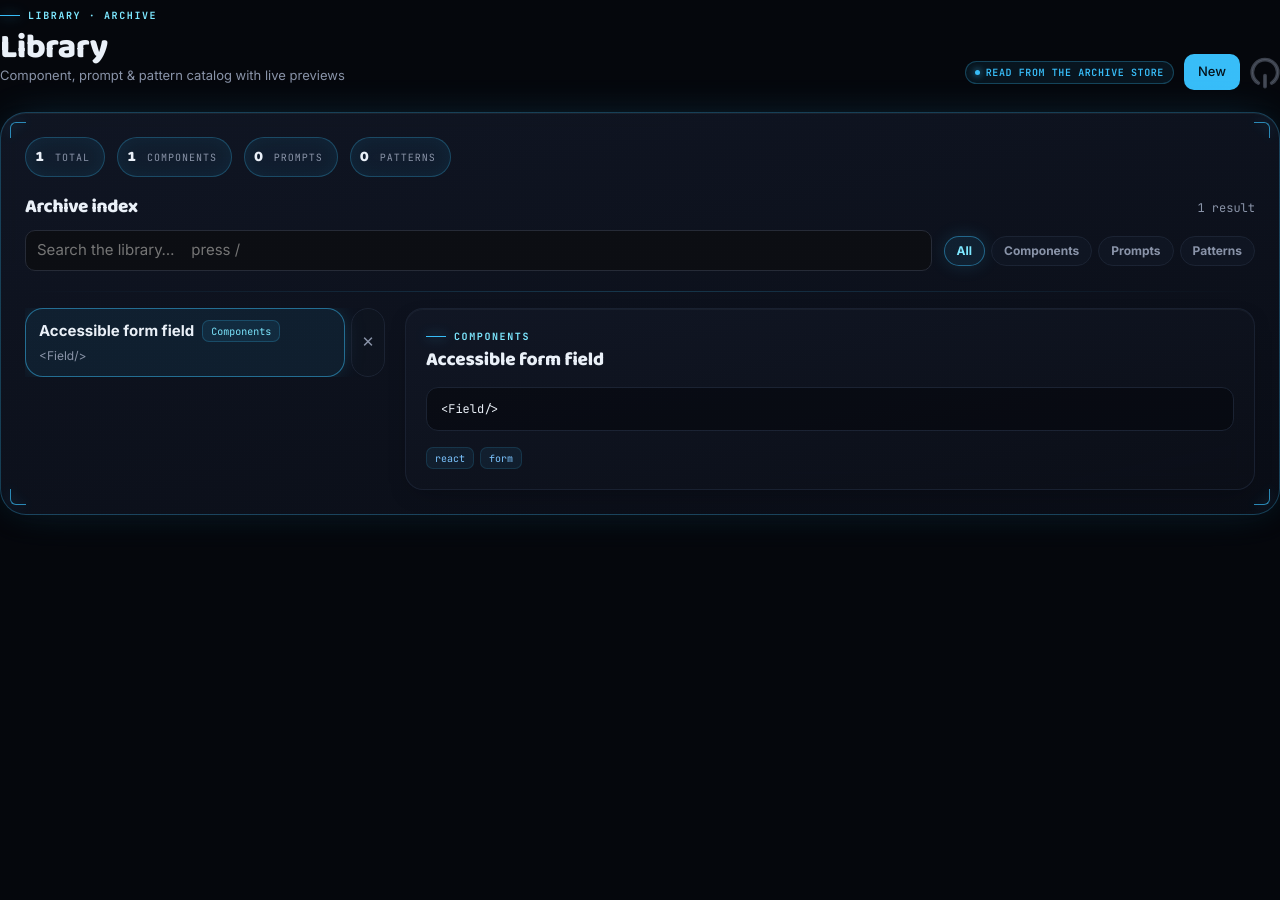
Test: Library — a policy refusal is named as permanent; an unknown failure is not › with no desktop backend at all, no backend is said to have rejected anything
The image size is (1280, 900).
Expected: the text "Accessible form field" is shown, [39,320,194,342]
Click the button "✕".
click(368, 343)  # box [351,308,385,377]
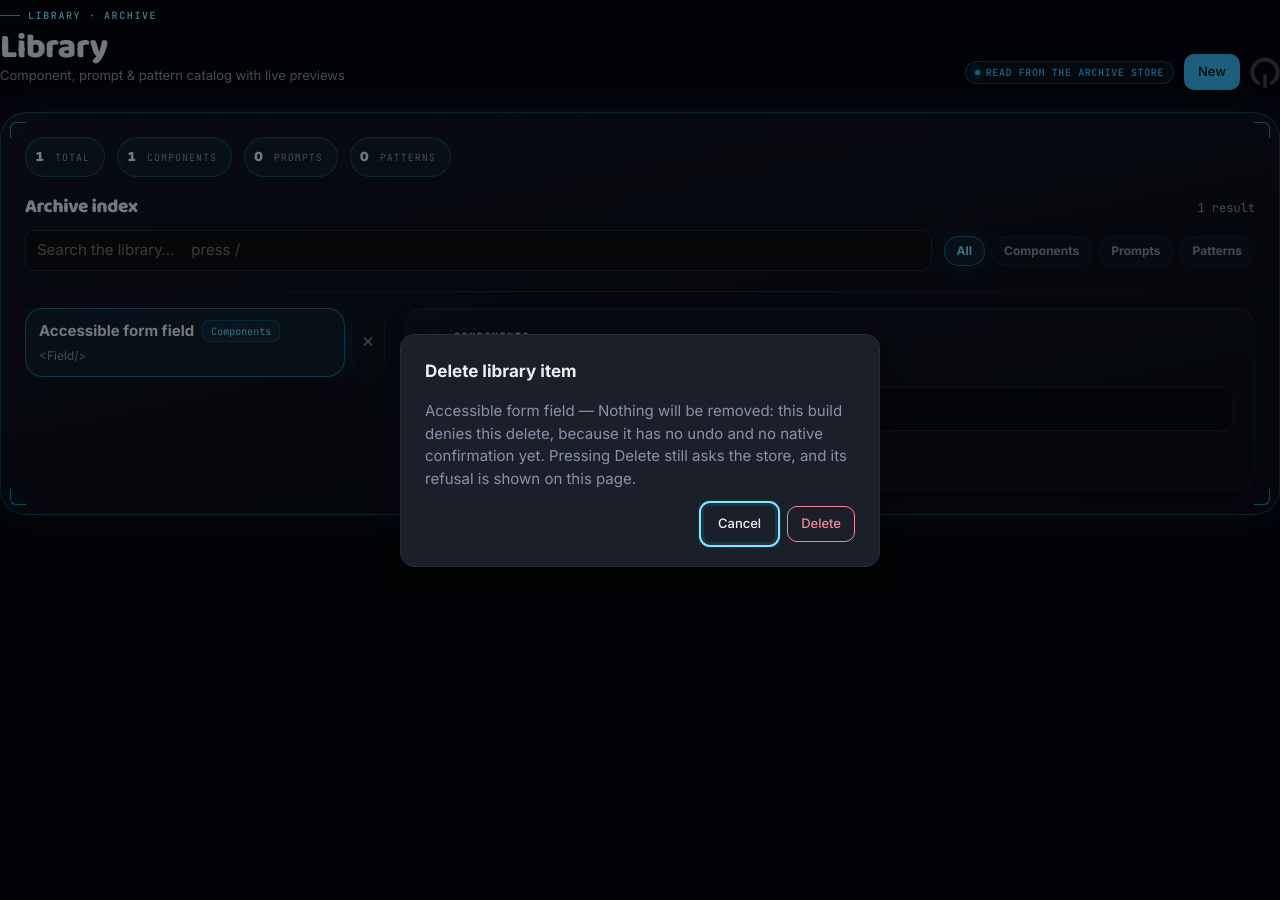
Expected: the dialog does not show "can.t be undone", [400,334,880,566]
Expected: the dialog shows "Nothing will be removed", [425,401,847,488]
Expected: the button "Delete" is shown
Click the button "Delete".
click(821, 524)  # box [787,506,855,542]
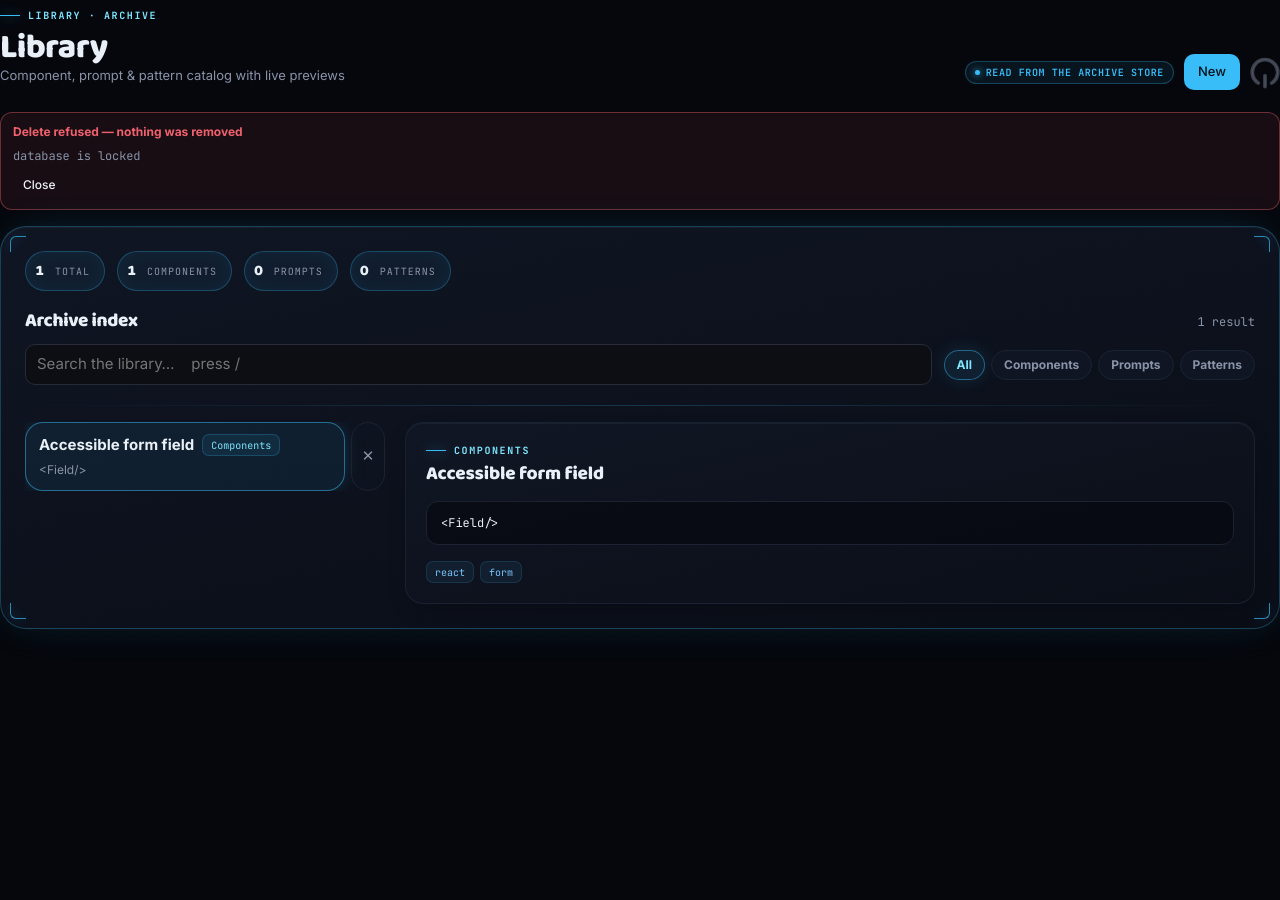
Expected: the message "Delete refused — nothing was removed database is locked Close" does not show "backend rejected", [0,112,1279,210]
Expected: the message "Delete refused — nothing was removed database is locked Close" is shown, [0,112,1279,210]
